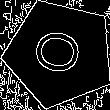O_E: (29, 27, 90, 81)
